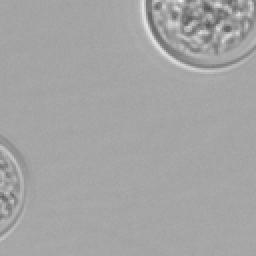picoshell: (140, 0, 254, 72), (0, 136, 26, 240)
